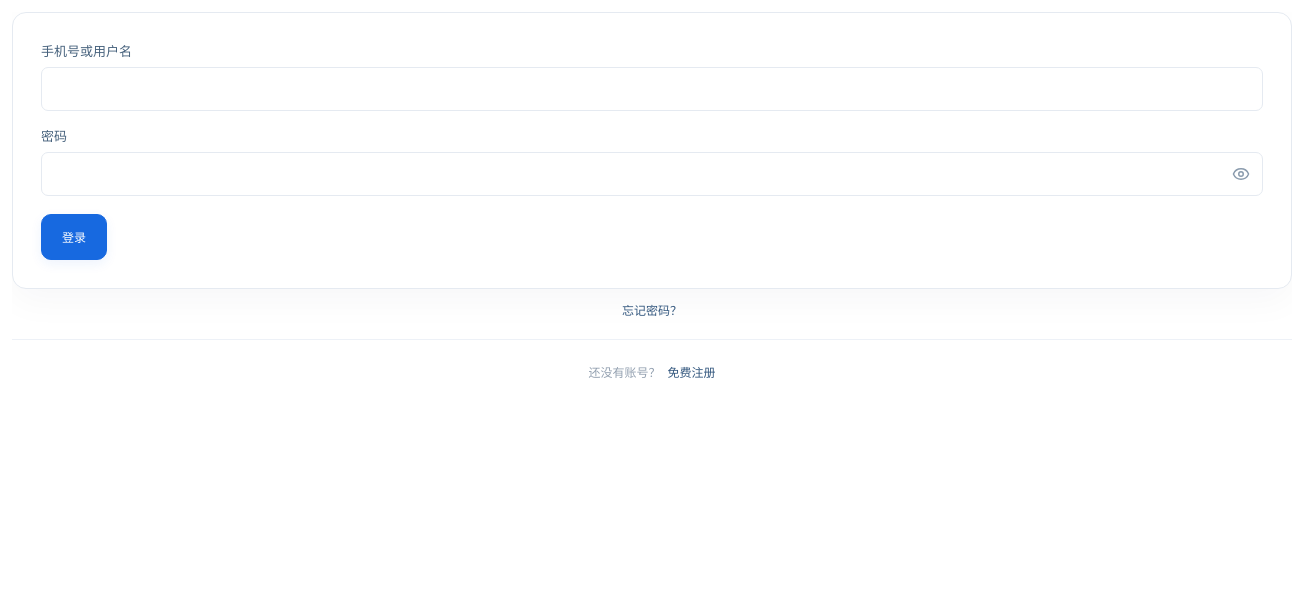
Test: resets with a restricted proof then returns to password login instead of creating a session
The image size is (1292, 594).
Step 1. Click the button "忘记密码？" → (652, 310), box x1=622 y1=301 x2=682 y2=319
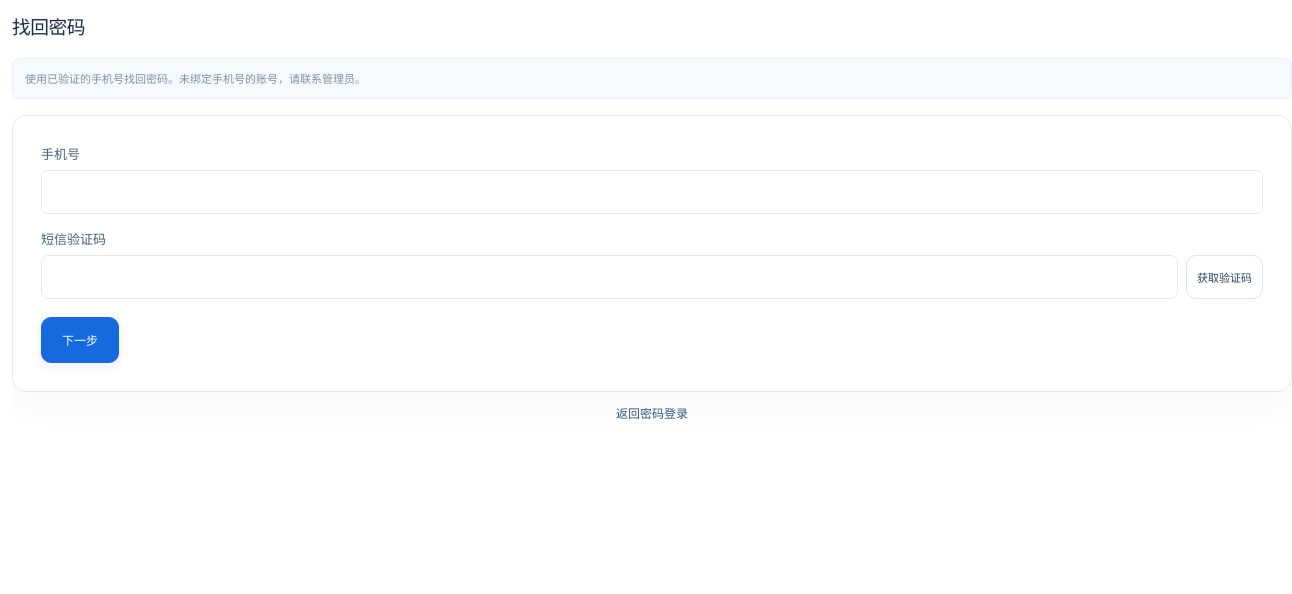
Step 2. Type "13900008803" into the field labelled "手机号" → (652, 192), box x1=41 y1=170 x2=1263 y2=214
Step 3. Type "123456" into the field labelled "短信验证码" → (610, 277), box x1=41 y1=255 x2=1178 y2=299
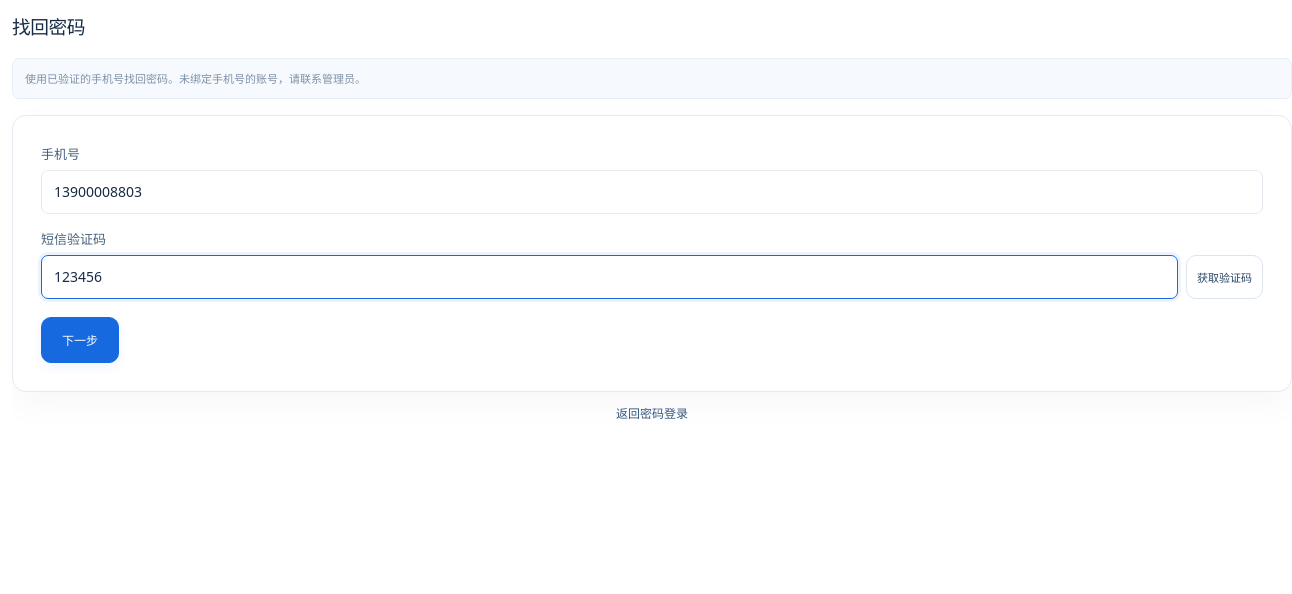
Step 4. Click the button "下一步" → (80, 340), box x1=41 y1=317 x2=119 y2=363
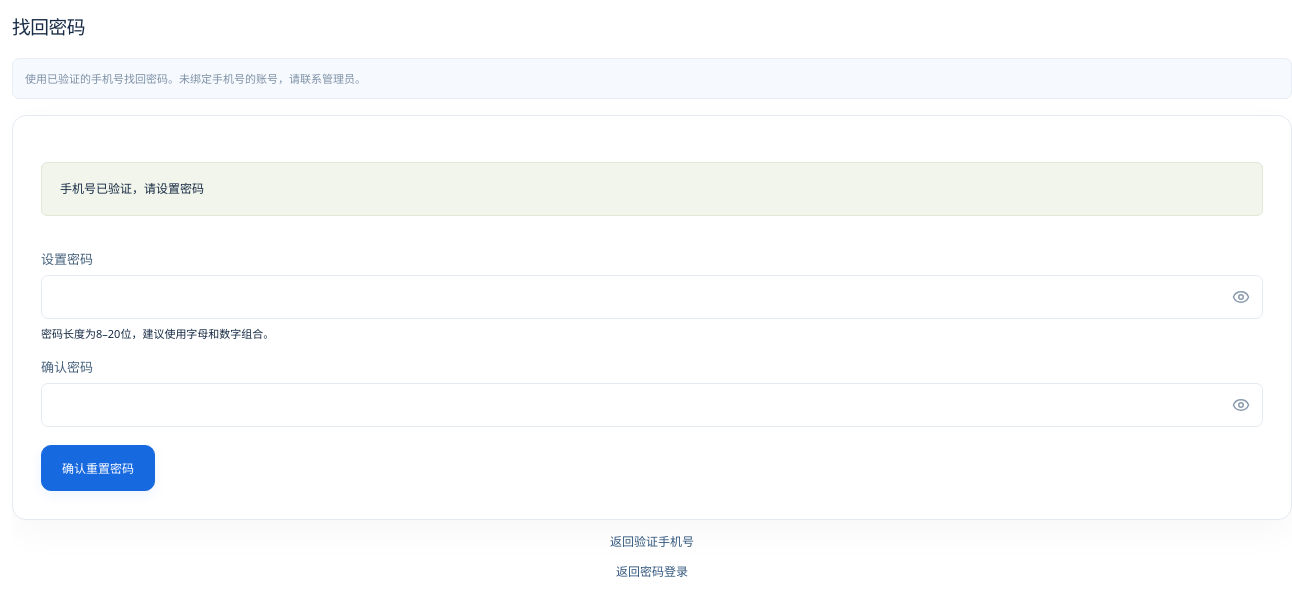
Step 5. Type "New!1234" into the password field labelled "设置密码" → (652, 297), box x1=41 y1=275 x2=1263 y2=319
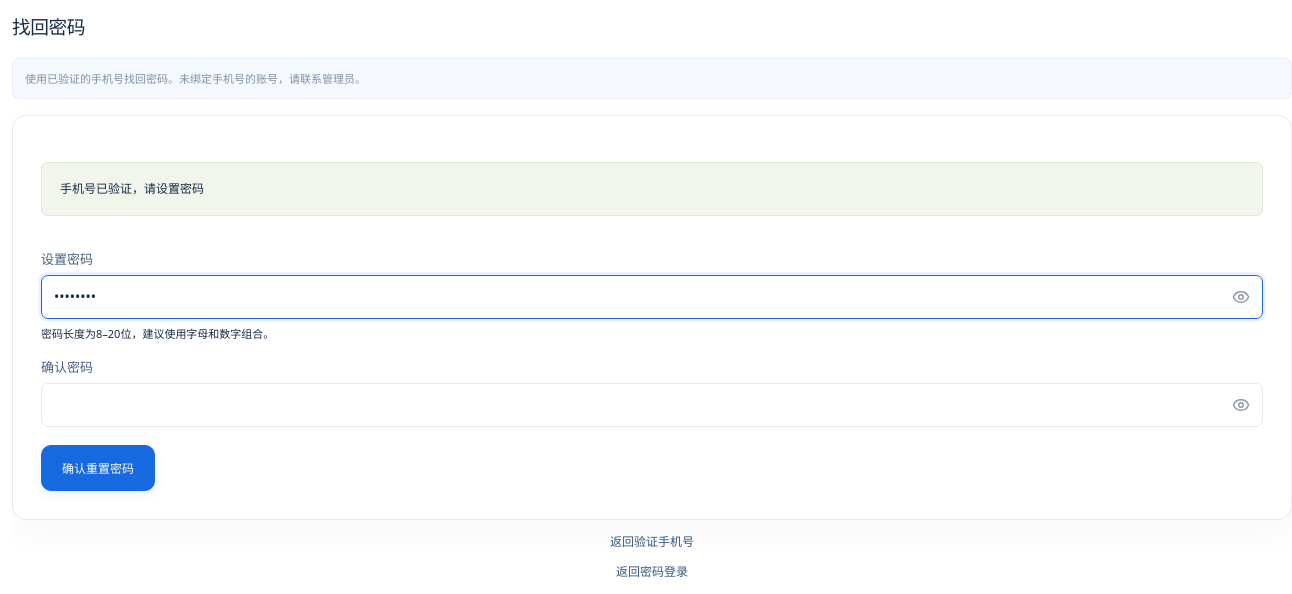
Step 6. Type "New!1234" into the password field labelled "确认密码" → (652, 405), box x1=41 y1=383 x2=1263 y2=427
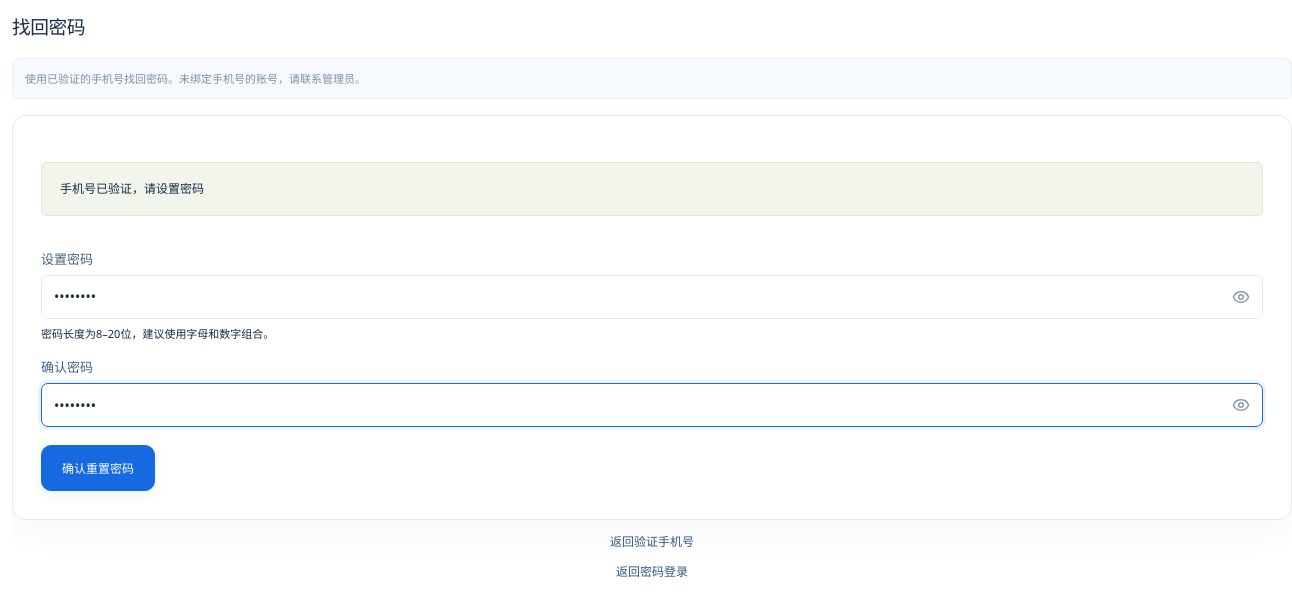
Step 7. Click the button "确认重置密码" → (98, 468), box x1=41 y1=445 x2=155 y2=491
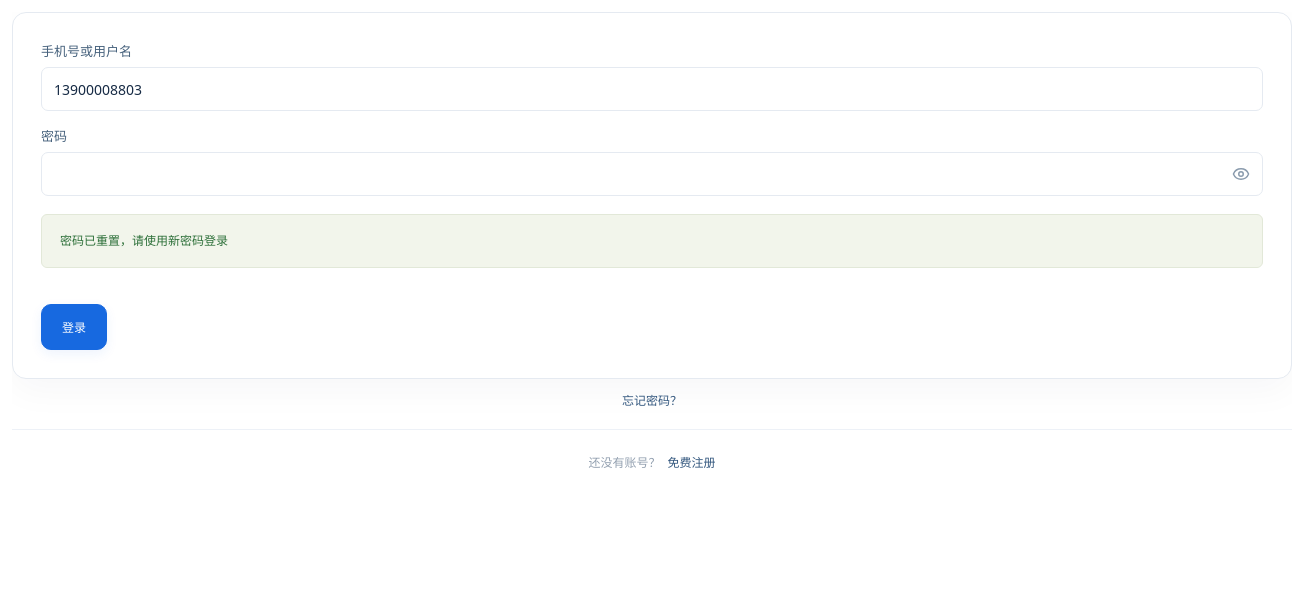
expect the text "密码已重置，请使用新密码登录" is shown: met, box x1=41 y1=214 x2=1263 y2=268
expect the field labelled "手机号或用户名" holds "13900008803": met, box x1=41 y1=67 x2=1263 y2=111
